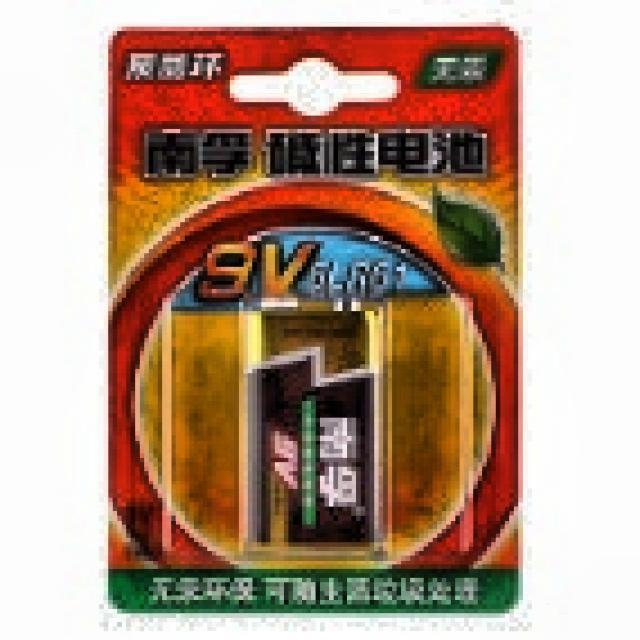battery: (254, 311, 372, 544)
